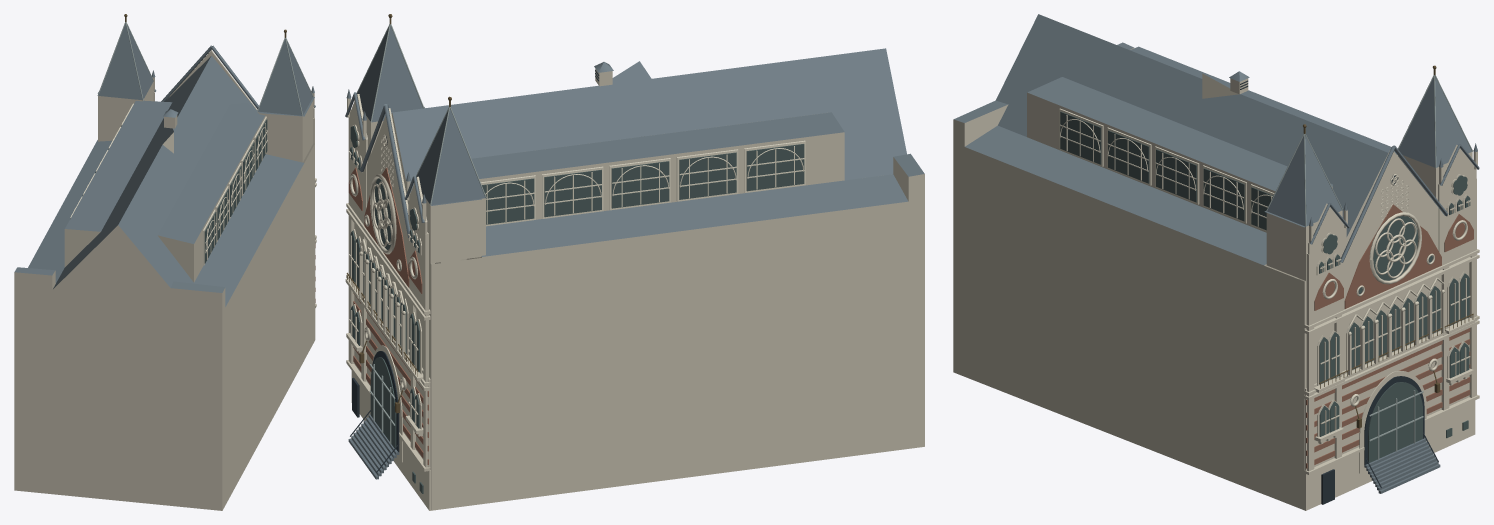
Rendered from keizersgrachtkerk.glb.
The picture shows the model from 3 angles, left to right: view 1: azimuth 30°, elevation 25°; view 2: azimuth 150°, elevation 25°; view 3: azimuth 270°, elevation 25°; orthographic projection. The views are drawn at different scales.
Visible parts, largest first — view 1: keizersgrachtkerk; view 2: keizersgrachtkerk; view 3: keizersgrachtkerk.
Boxes of the visible parts, <box> form: keizersgrachtkerk: <box>14,14,316,510</box>; keizersgrachtkerk: <box>345,14,924,510</box>; keizersgrachtkerk: <box>953,14,1479,510</box>.
Size of the model in its own units: 30.48 by 24.22 by 31.26.
